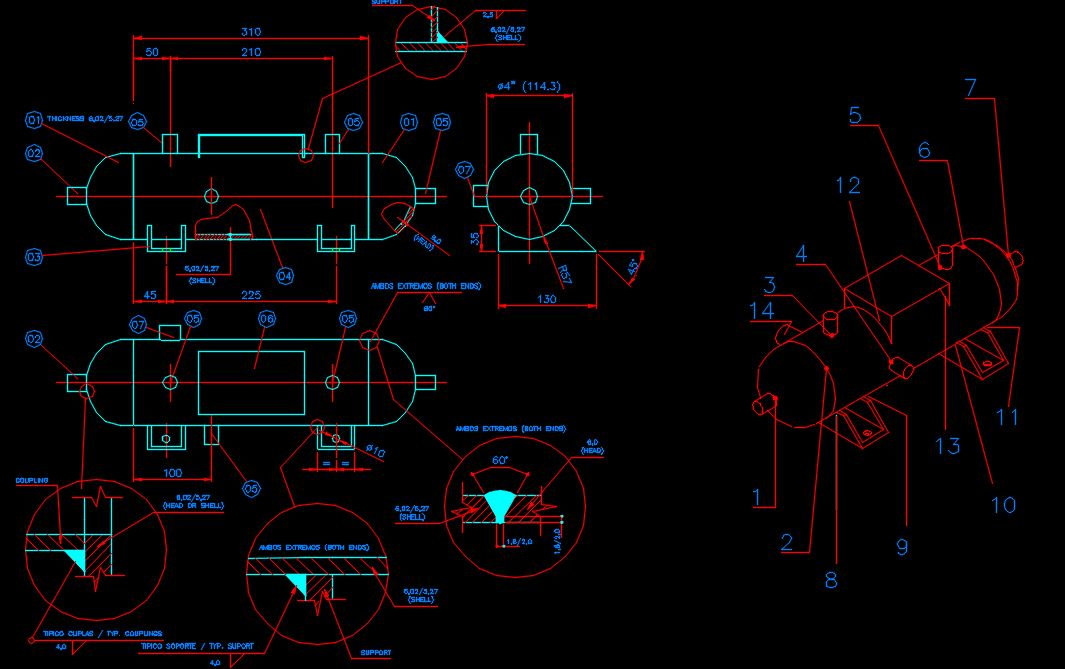nozzle: (120, 423, 208, 459), (307, 416, 369, 459)
